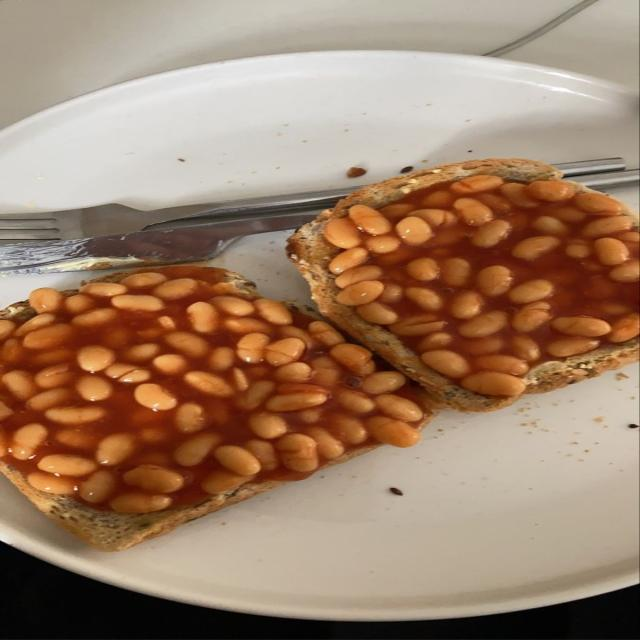sliced_bread: (287, 158, 637, 411), (0, 462, 283, 551), (329, 444, 378, 466), (223, 271, 256, 293), (0, 301, 33, 319)
